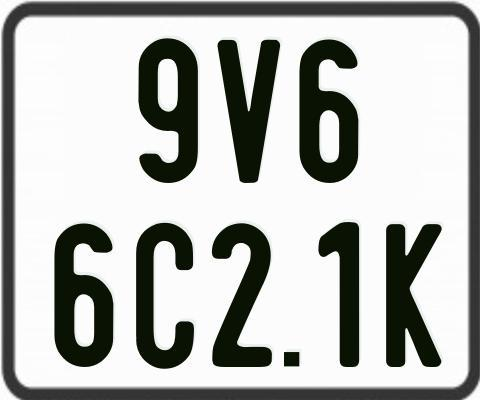1: (317, 221, 359, 369)
2: (210, 223, 274, 370)
6: (298, 40, 361, 187), (52, 222, 111, 370)
9: (137, 38, 198, 186)
C: (133, 222, 197, 369)
K: (383, 222, 442, 366)
V: (215, 39, 278, 186)
